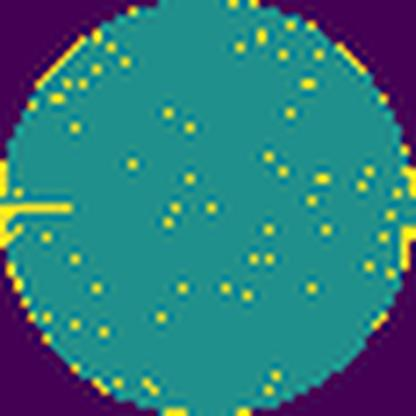Scratch: (0, 197, 77, 252)
